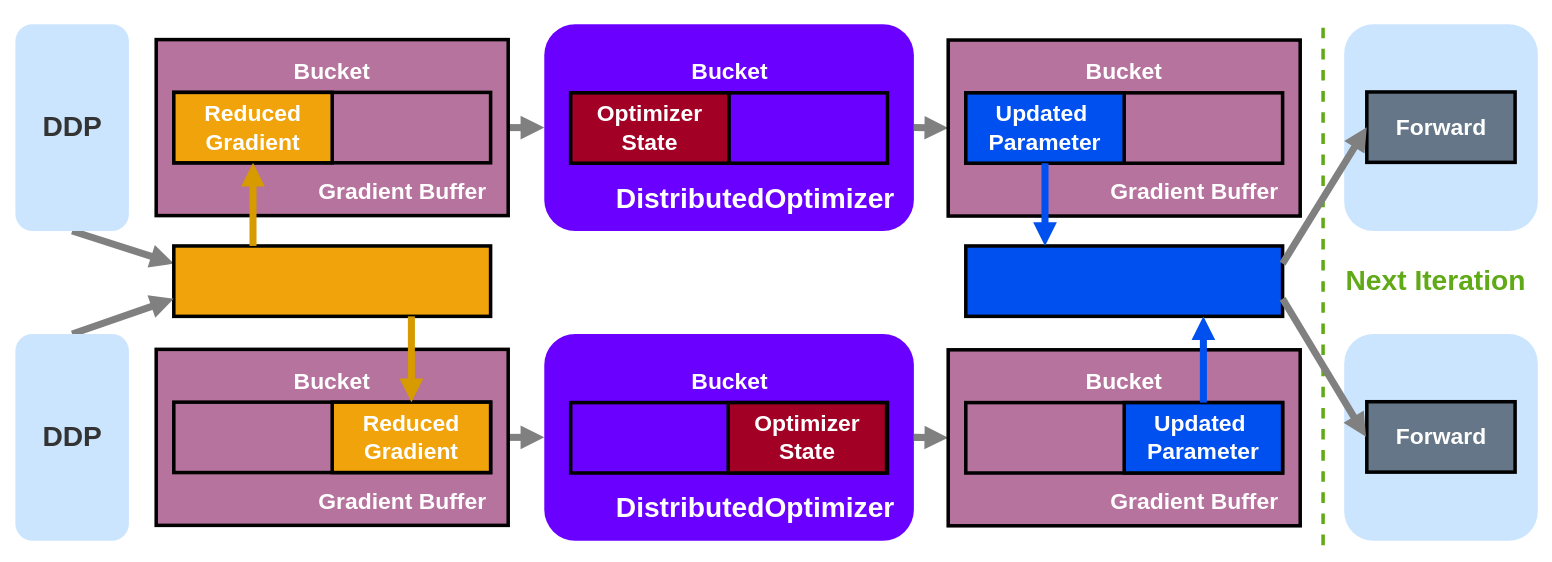
Some shapes in this 1552 by 562 pixel diagram are drawn without their labels. The shapes that lost their labels are listed below. From the top down, each one's centre as x and y in pixels, then its label:
At (332,281): "ReduceScatter".
At (1124,281): "AllGather".
